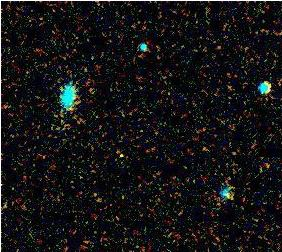star: (112, 141, 142, 171)
